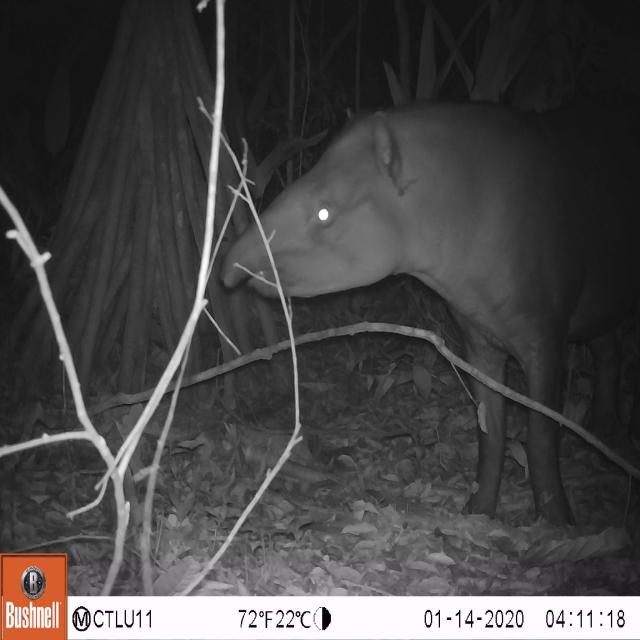Lowland Tapir: (209, 92, 640, 532)
